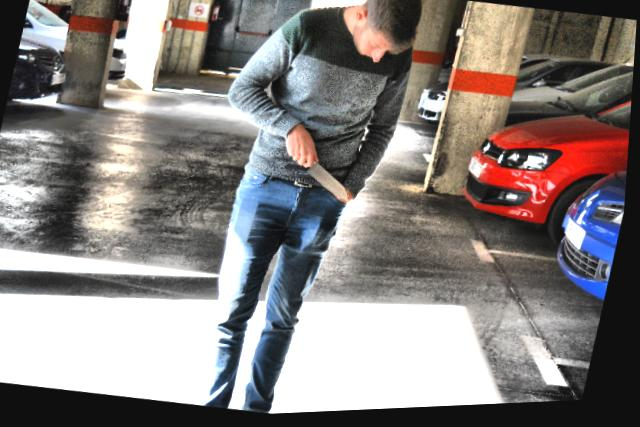knife: (293, 154, 360, 208)
